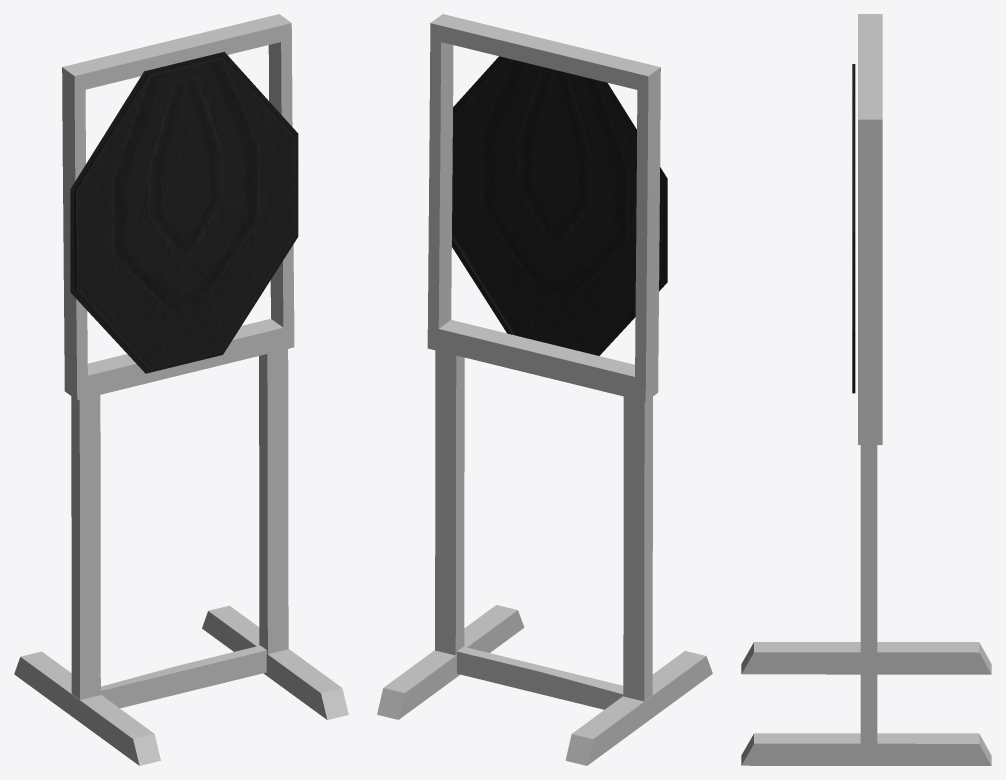
File: IPSC 纸靶-黑色01.FBX
3 views of the same model, side by side, from view 1: azimuth 30°, elevation 25°; view 2: azimuth 150°, elevation 25°; view 3: azimuth 270°, elevation 25° (orthographic).
Visible parts, largest first — view 1: Object29, Box03SS15; view 2: Box03SS15, Object29; view 3: Box03SS15, Object29.
Part boxes in pixels (bbox=[...]): Object29: bbox=[70, 52, 298, 373]; Box03SS15: bbox=[14, 14, 348, 765]; Box03SS15: bbox=[377, 14, 712, 765]; Object29: bbox=[452, 56, 667, 355]; Box03SS15: bbox=[741, 14, 991, 765]; Object29: bbox=[852, 64, 855, 393].
Bounding box in the file's own units: 10.38 × 9.9 × 28.25.
